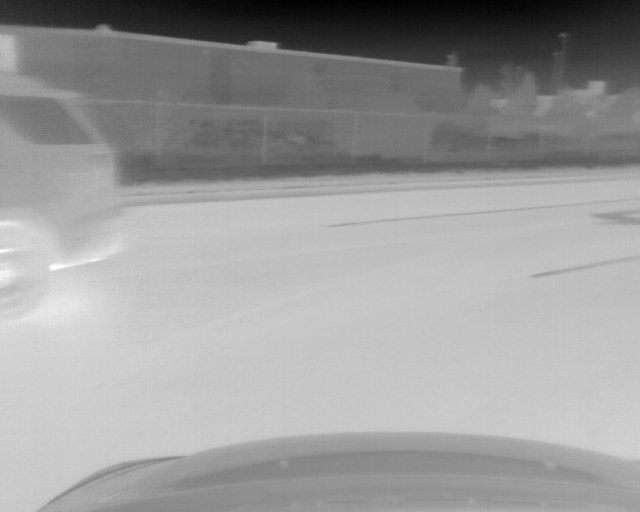car: (1, 71, 124, 322)
